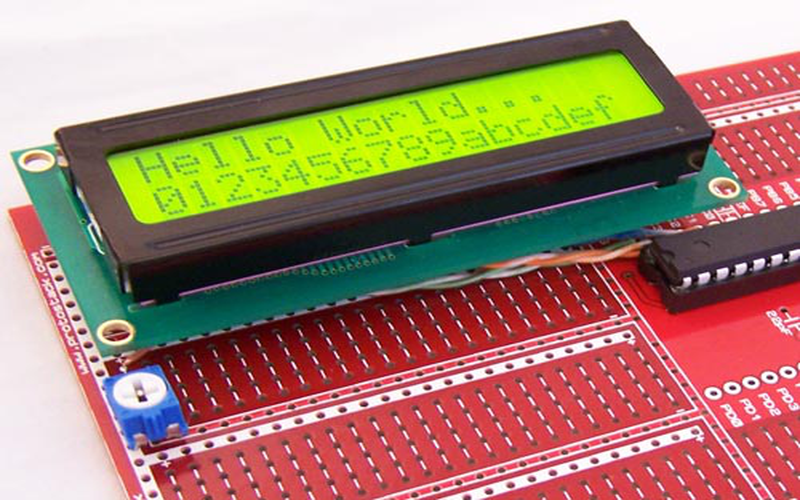LCD: (58, 32, 701, 237)
